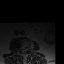CCS_stenosis: (23, 48, 24, 54)
LFS_normal: (26, 47, 27, 52)
LLS_normal: (24, 48, 26, 53)
RFS_severe_stenosis: (20, 48, 21, 52)
RLS_stenosis: (21, 48, 23, 53)
